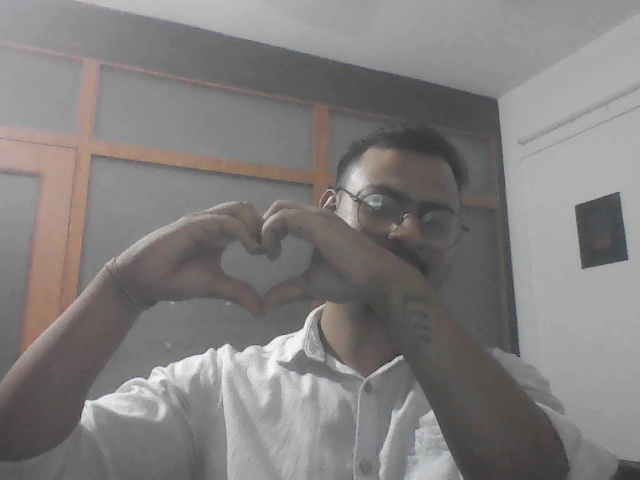Heart: (162, 197, 361, 324)
